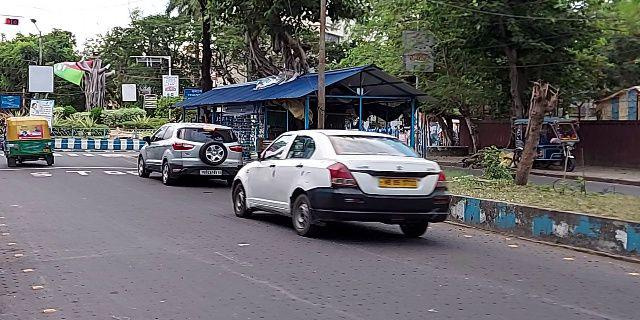Autorickshaw: (1, 115, 59, 165)
Car: (231, 126, 461, 235), (136, 116, 243, 187)
